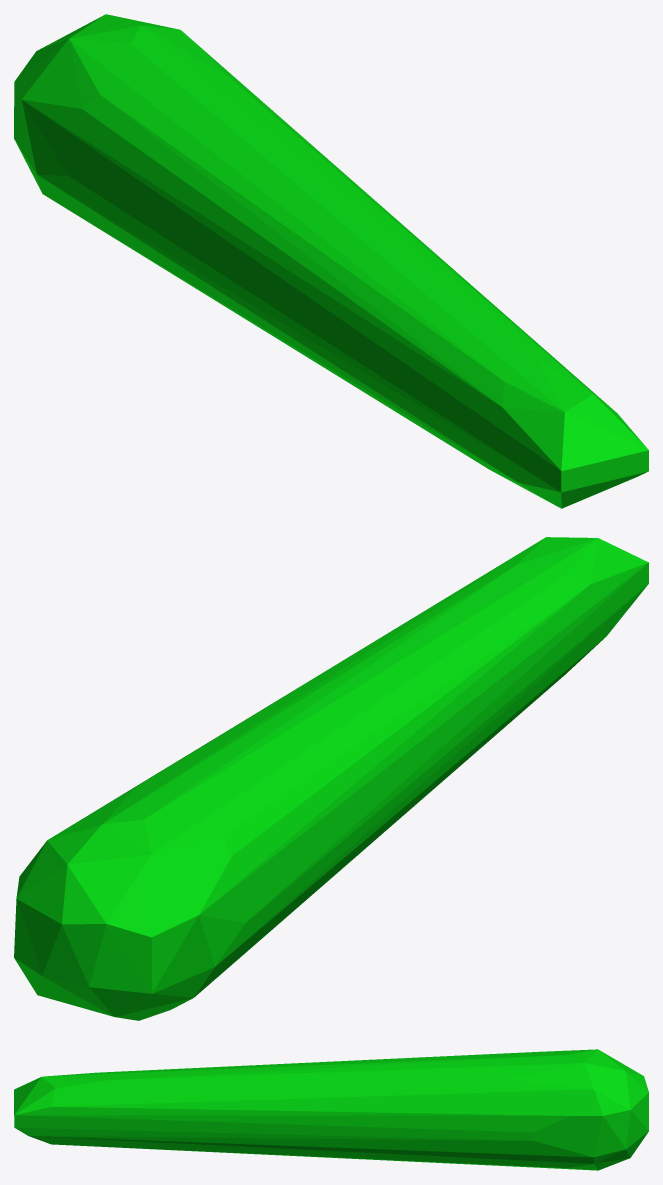
File: model4_convex_piece_002.obj
3 renders of one model, top to bottom at view 1: azimuth 30°, elevation 25°; view 2: azimuth 150°, elevation 25°; view 3: azimuth 270°, elevation 25°, orthographic. The views are drawn at different scales.
Bounding box in the file's own units: 0.0114 × 0.0109 × 0.0602.
